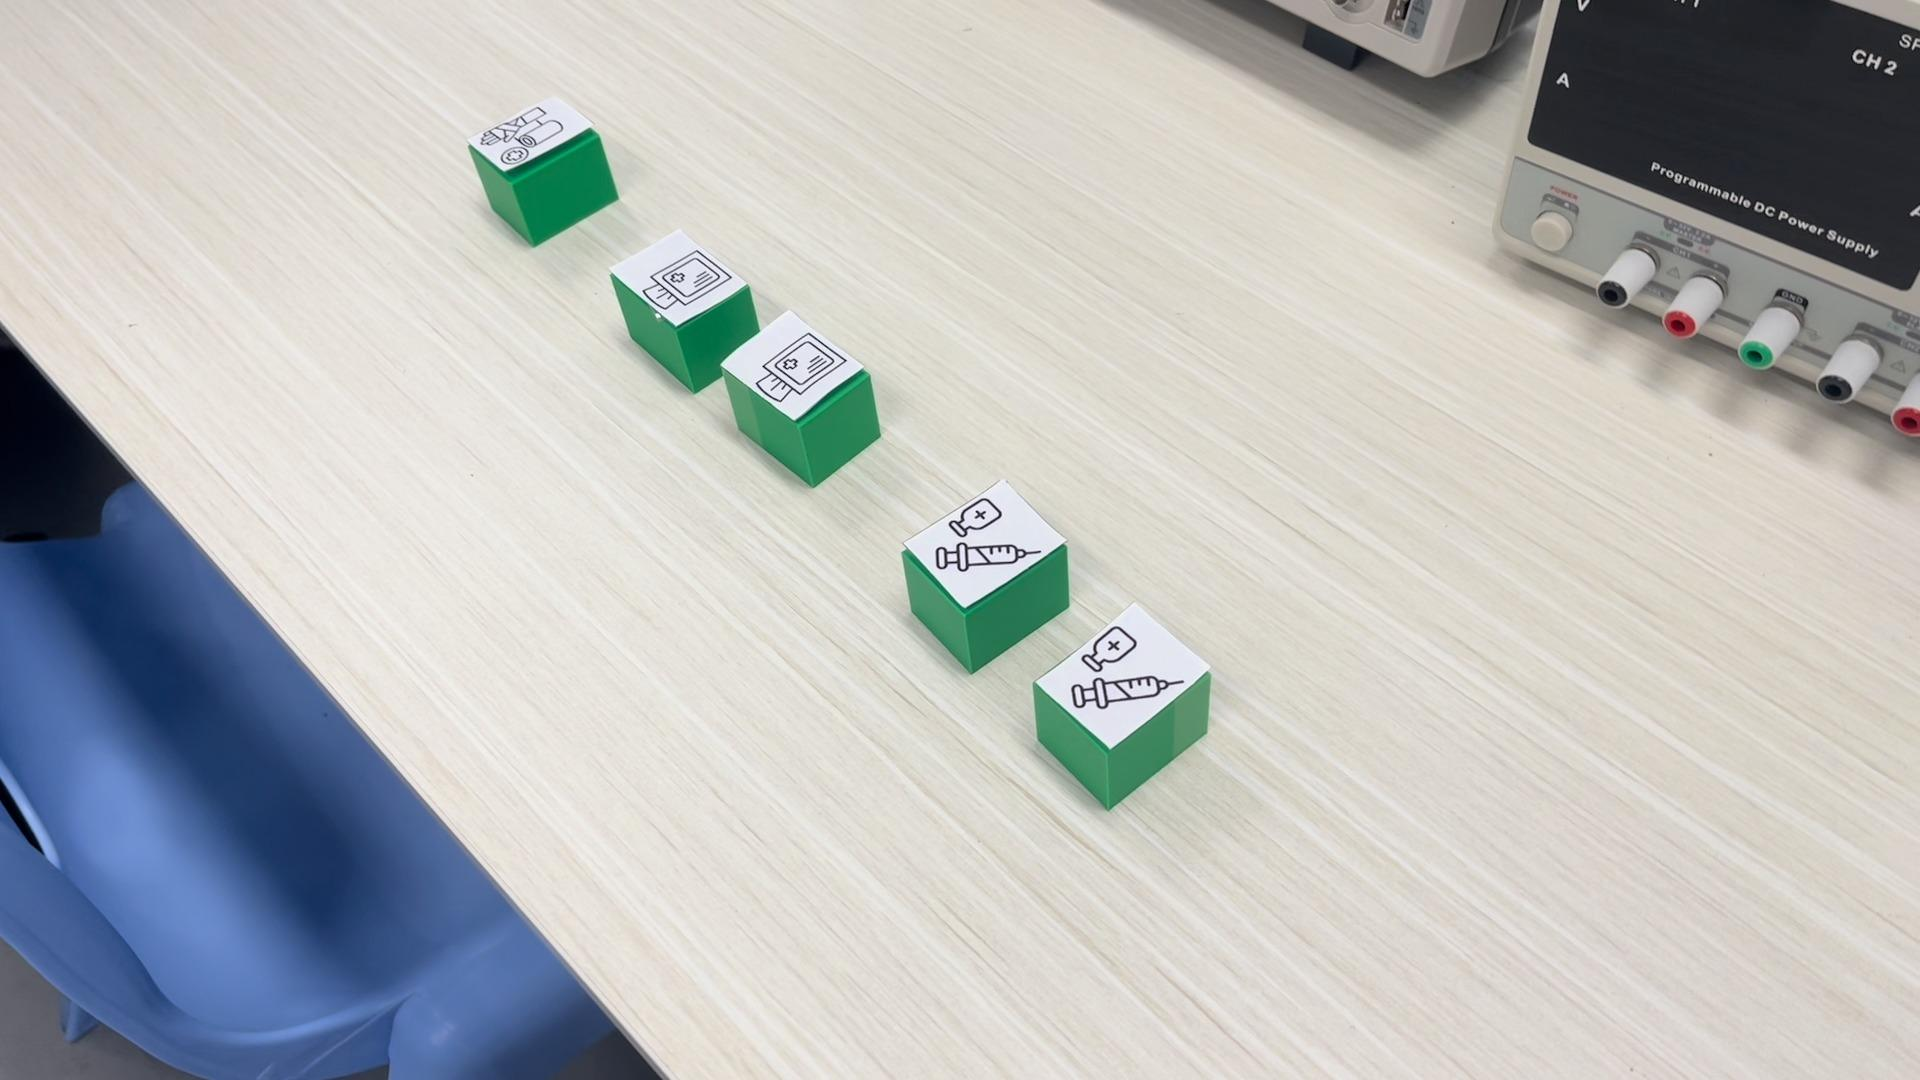Bandages: (465, 94, 618, 247)
Gauze: (720, 309, 881, 487), (612, 225, 760, 400)
antiseptic cream: (1029, 601, 1213, 808), (897, 477, 1072, 673)
